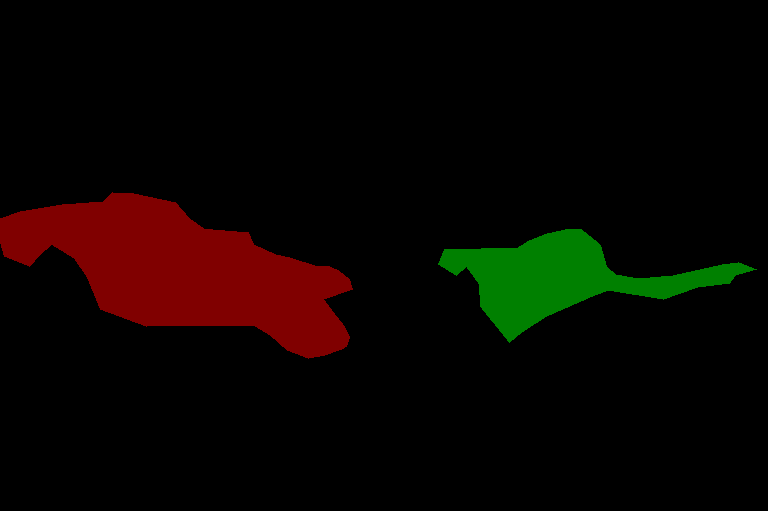fire: (0, 192, 352, 358), (438, 229, 756, 342)
